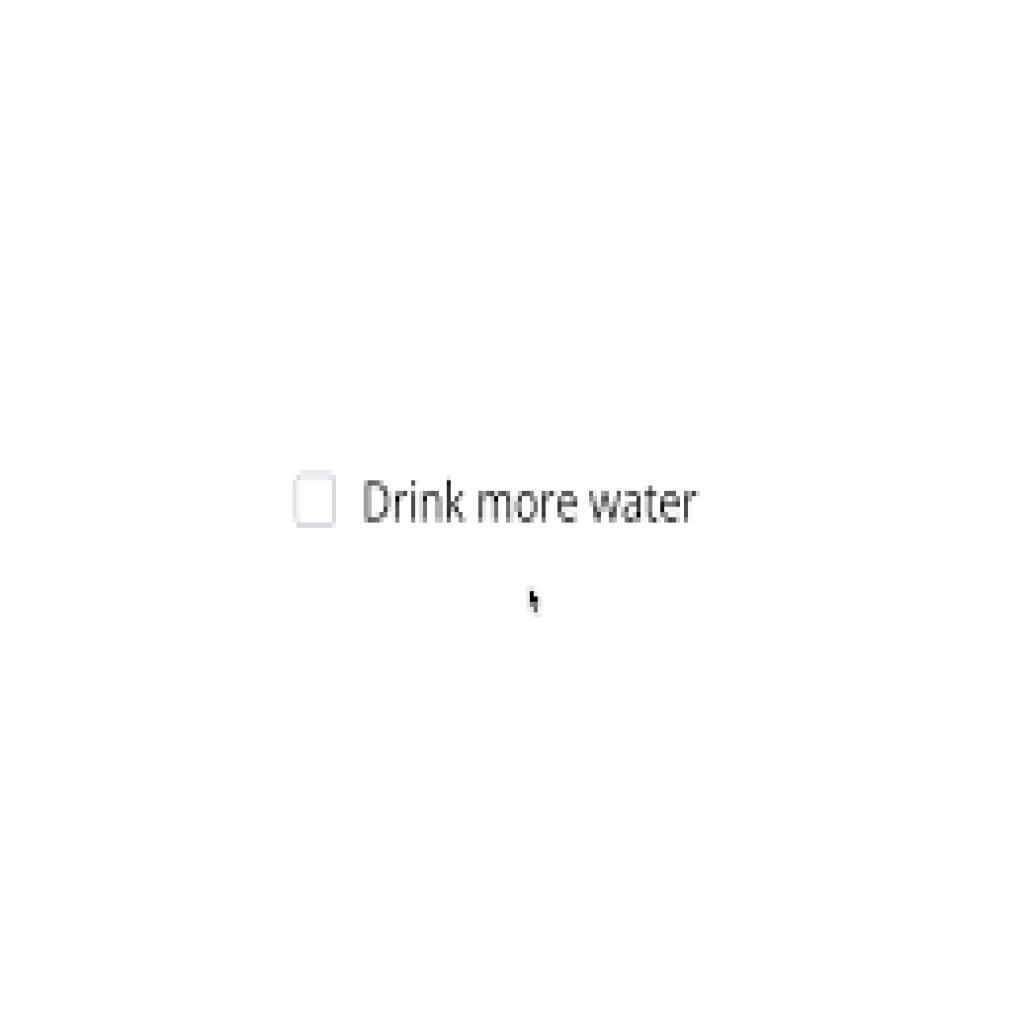checkbox: (293, 474, 338, 523)
label: (362, 476, 699, 533)
